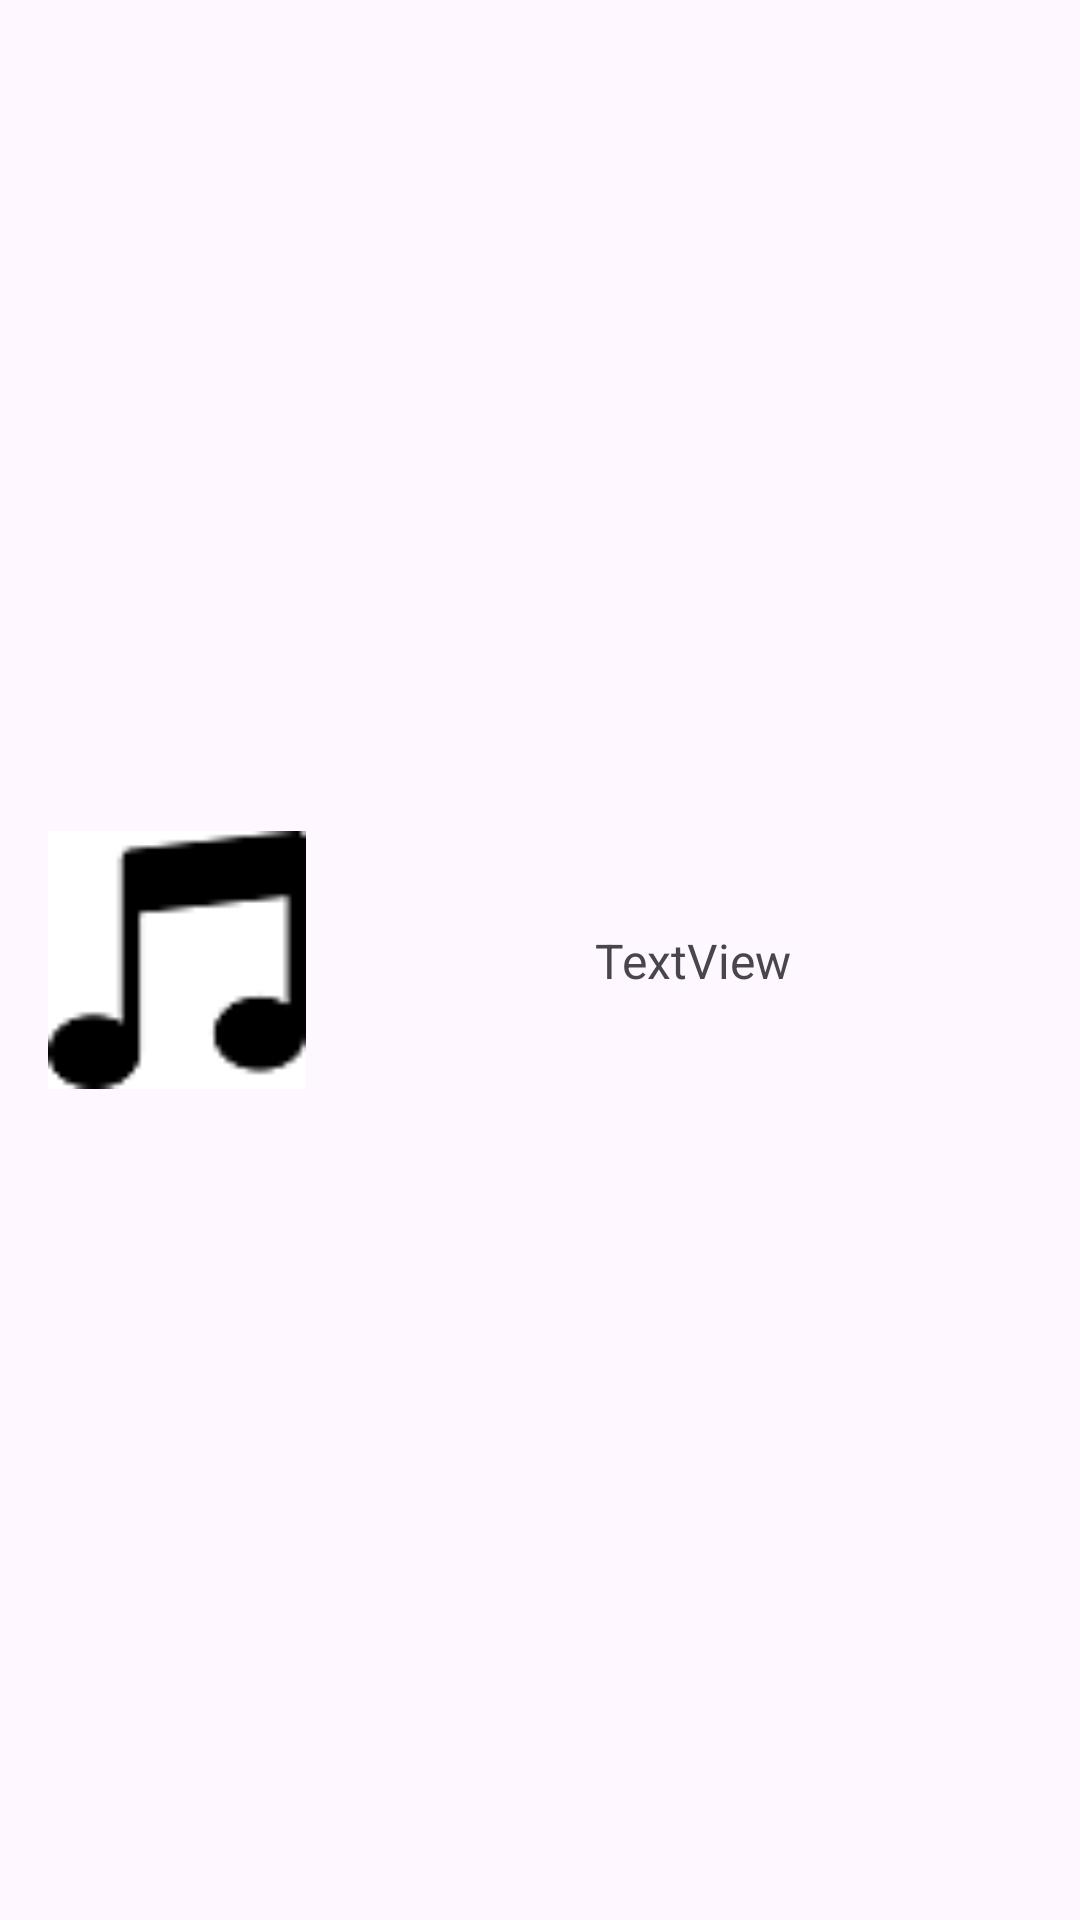

Where icons sit on this 1080px x 1920px app screen, as region(x1, y1, x2, y2):
music: region(48, 831, 306, 1089)
